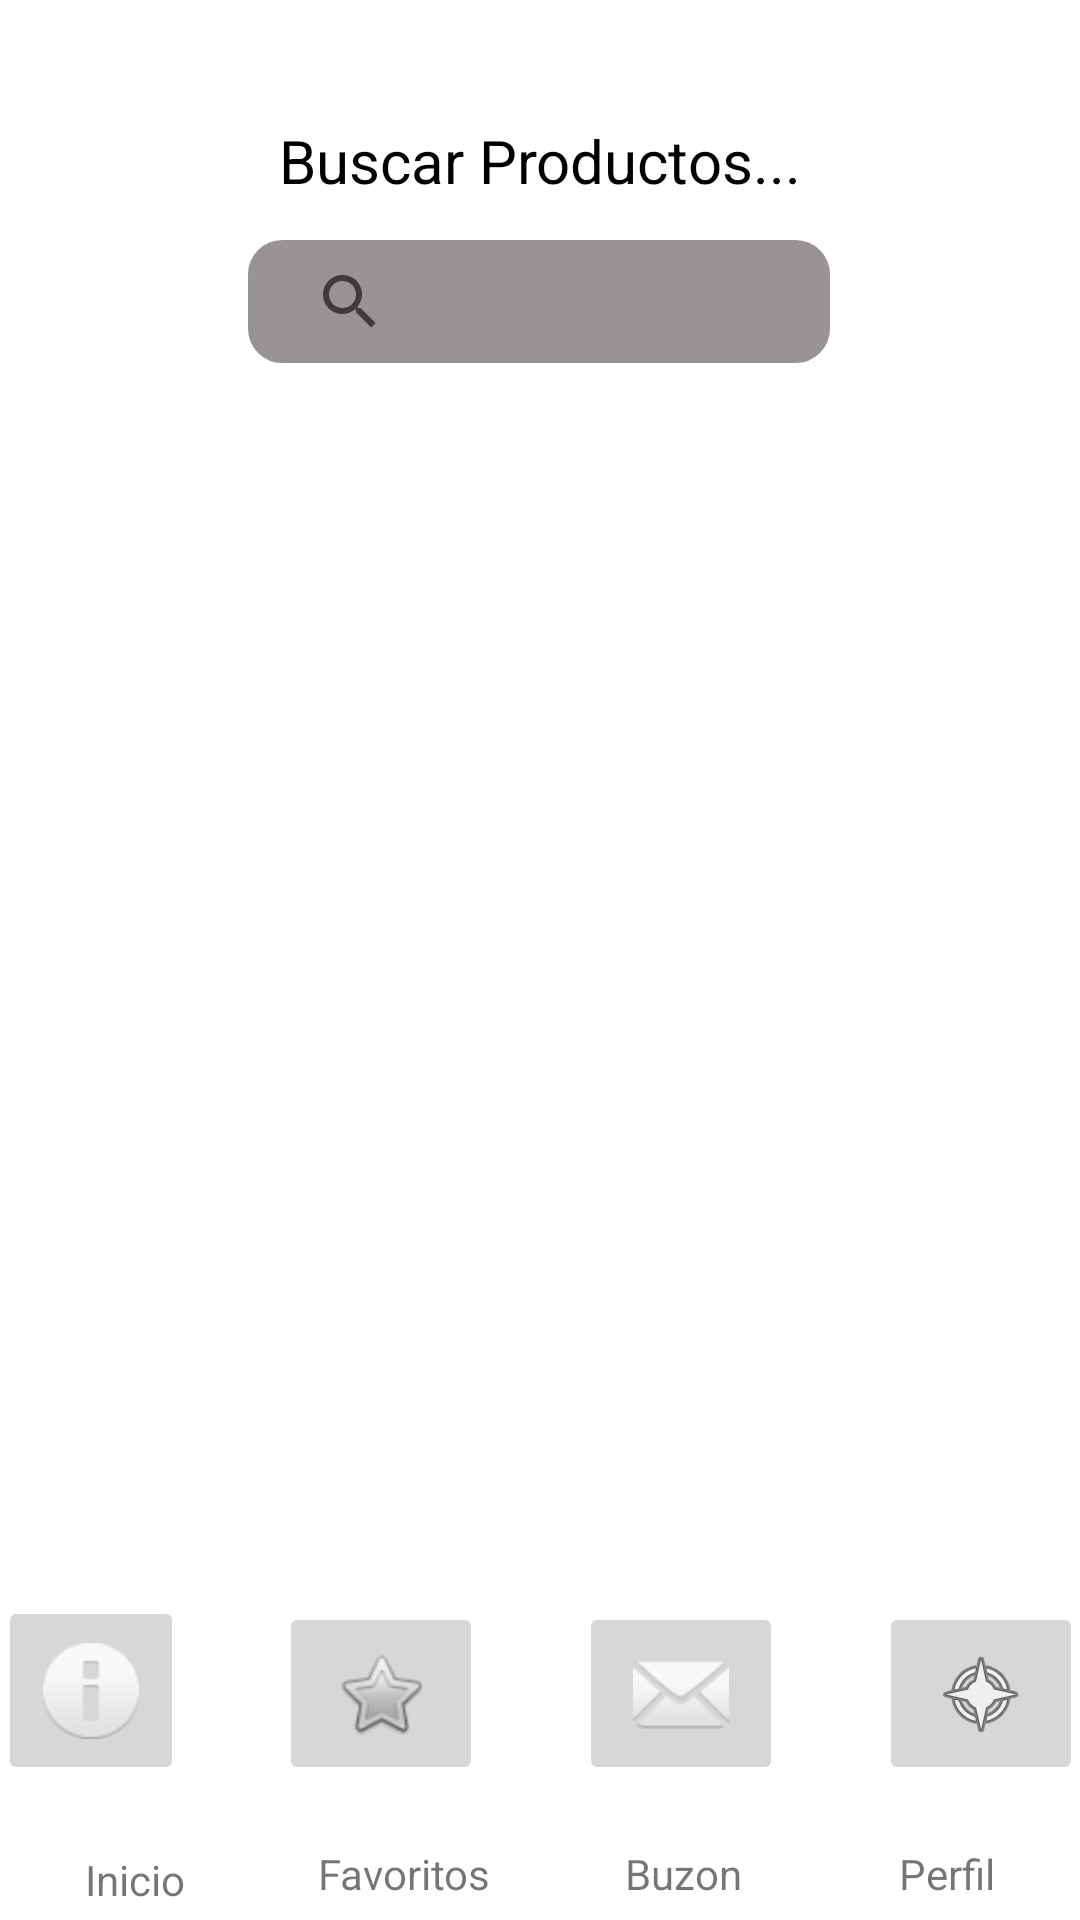

Icon bounding boxes for this 1080x1920 phone screenshot, format box(x1, y1, x2, y2):
compass: box(891, 1620, 1071, 1767)
email: box(591, 1620, 771, 1767)
info: box(10, 1614, 172, 1767)
star off: box(291, 1620, 471, 1767)
